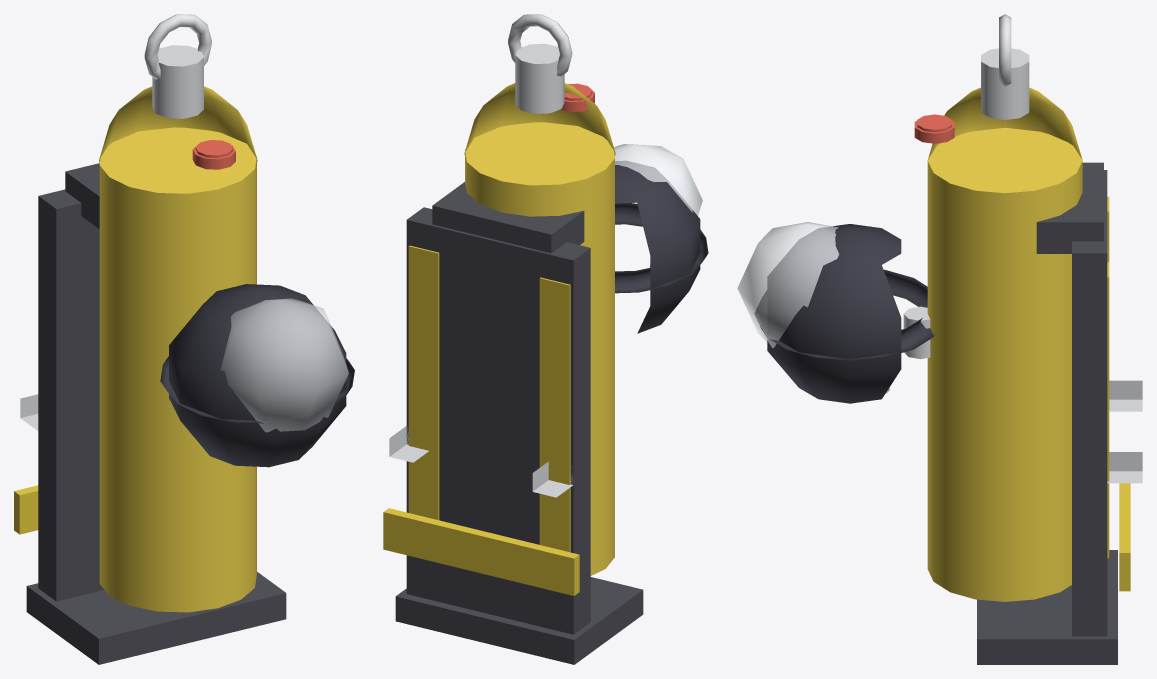
Rendered from scba_respirator.glb.
The picture shows the model from 3 angles, left to right: view 1: azimuth 30°, elevation 25°; view 2: azimuth 150°, elevation 25°; view 3: azimuth 270°, elevation 25°; orthographic projection. The views are drawn at different scales.
Parts seen in each view (by area): view 1: SCBARespirator; view 2: SCBARespirator; view 3: SCBARespirator.
Boxes of the visible parts, x1,y1,x2,y2 form: SCBARespirator: [14, 14, 354, 664]; SCBARespirator: [383, 14, 708, 664]; SCBARespirator: [737, 14, 1142, 664].
Size of the model in its own units: 0.16 by 0.472 by 0.2875.
